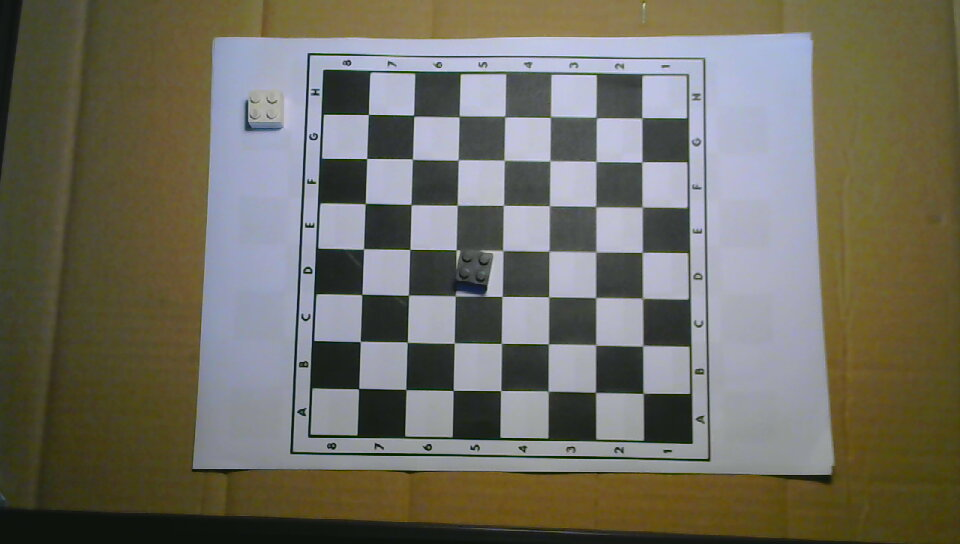bp: (456, 246, 493, 290)
wp: (247, 88, 285, 130)
